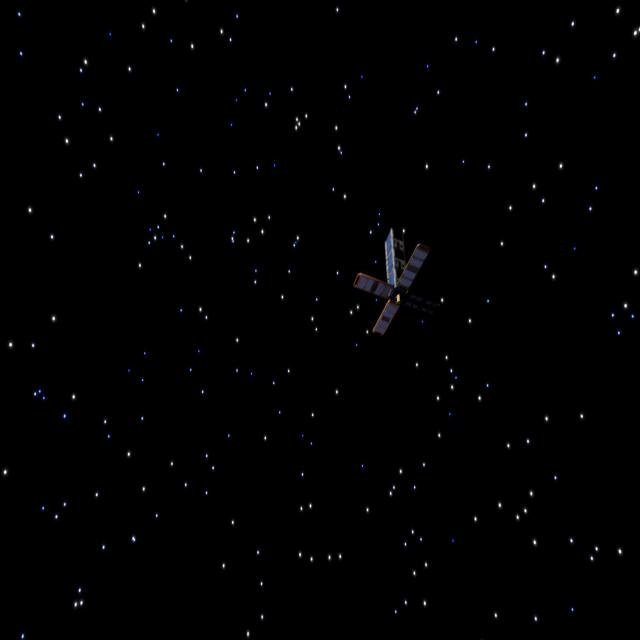medium_debris: (351, 217, 447, 352)
